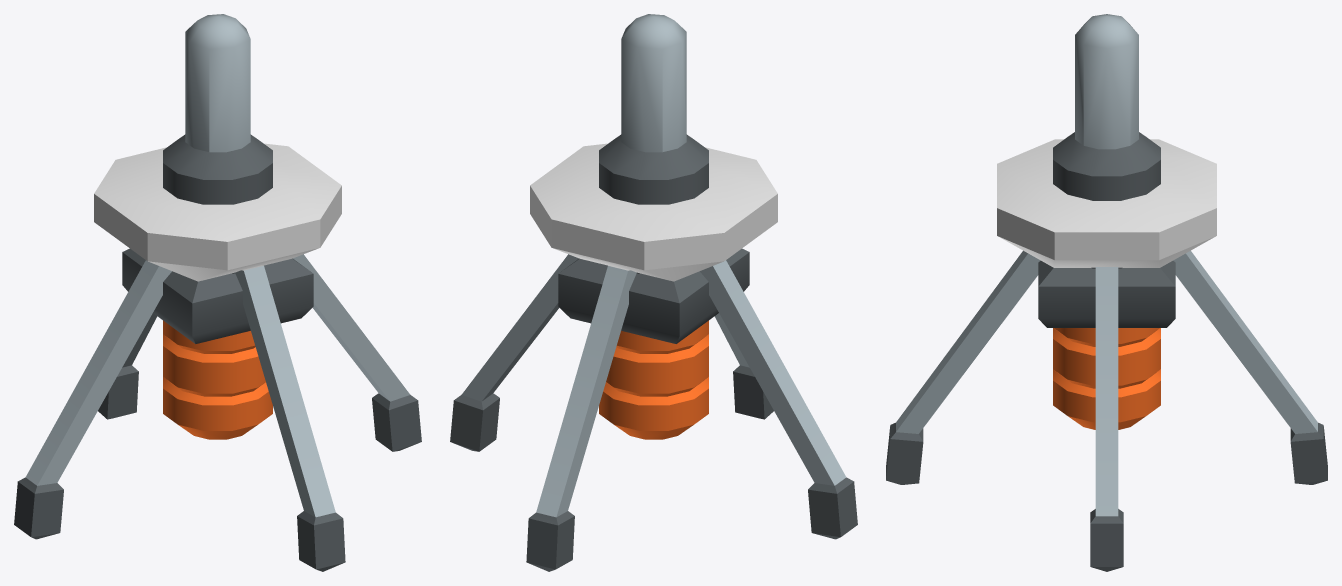
Rendered from radar_bottom.gltf.glb.
The picture shows the model from 3 angles, left to right: view 1: azimuth 30°, elevation 25°; view 2: azimuth 150°, elevation 25°; view 3: azimuth 270°, elevation 25°; orthographic projection. The views are drawn at different scales.
Visible parts, largest first — view 1: radar_bottom; view 2: radar_bottom; view 3: radar_bottom.
Boxes of the visible parts, x1,y1,x2,y2 form: radar_bottom: (14, 14, 421, 571); radar_bottom: (450, 14, 857, 571); radar_bottom: (886, 14, 1327, 571).
Bounding box in the file's own units: 0.8678 × 1.01 × 0.8678.
